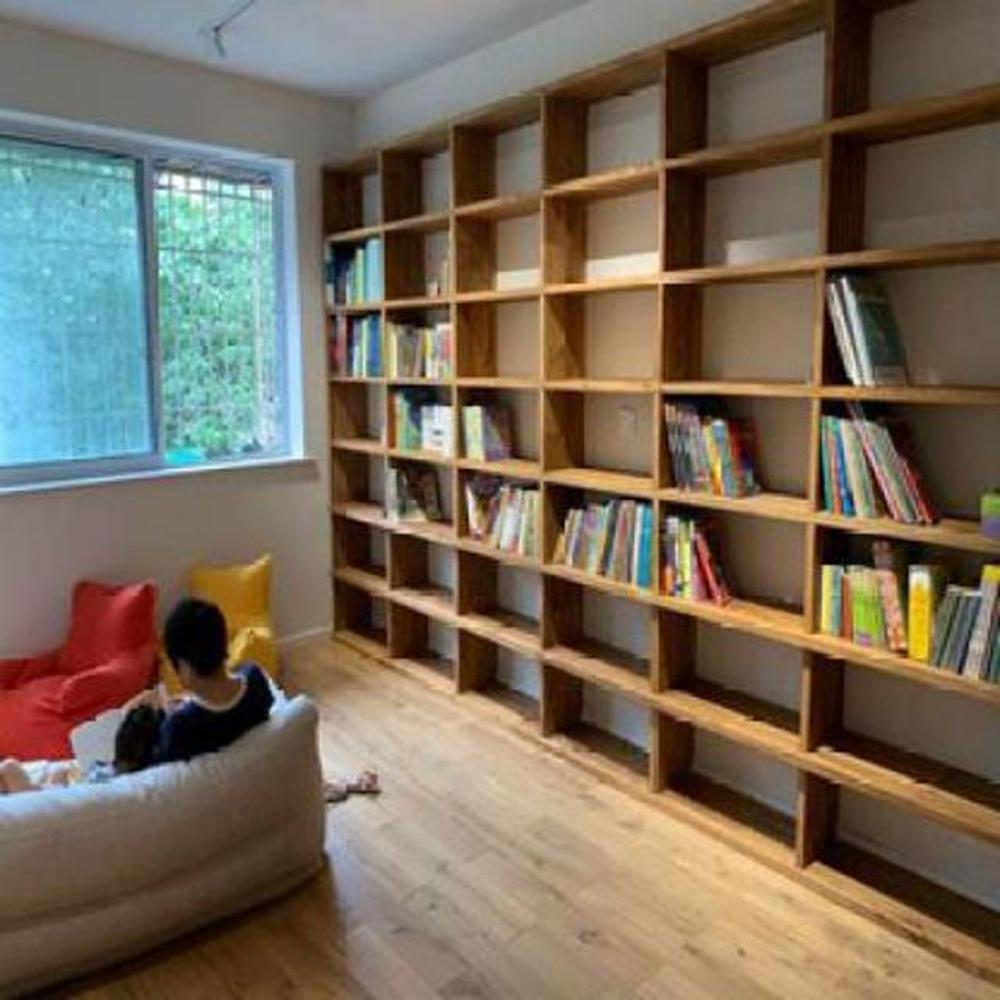lamp: (319, 1, 996, 997)
